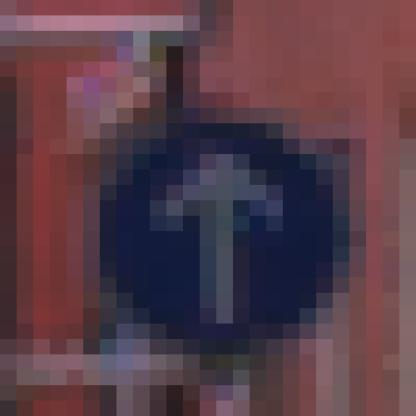AheadOnly: (84, 94, 334, 325)
